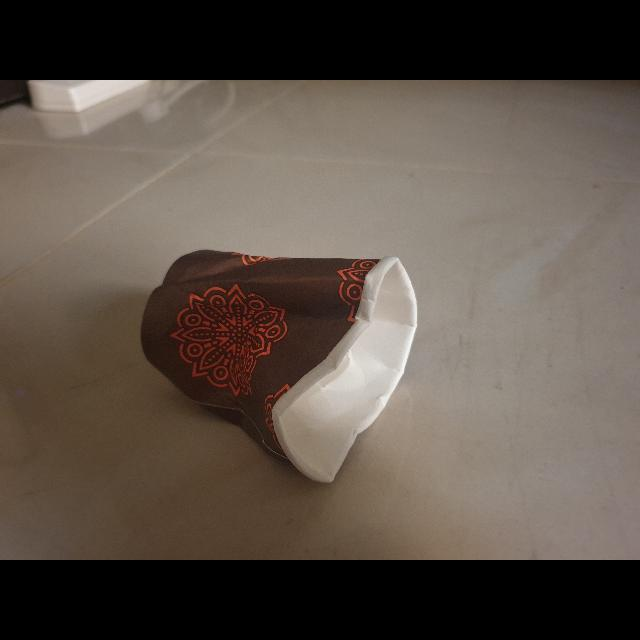trash: (136, 239, 430, 491)
